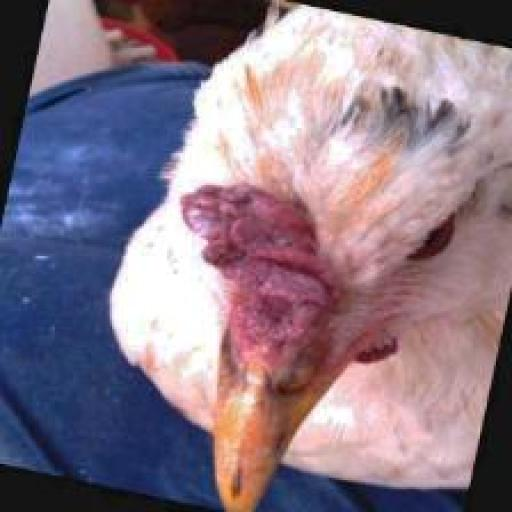disease: (171, 187, 368, 459)
